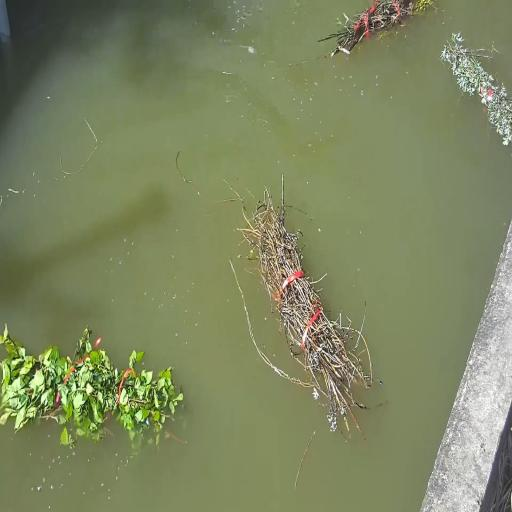twig: (238, 183, 371, 436), (0, 325, 183, 439), (440, 32, 512, 146), (319, 0, 431, 57)
